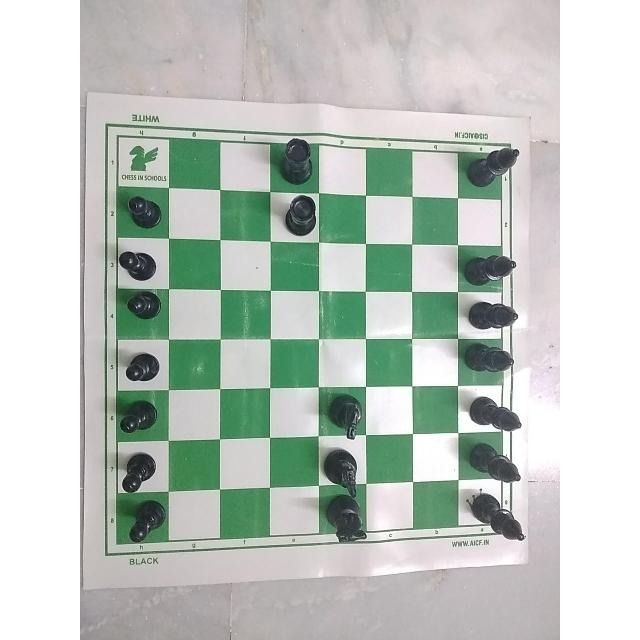black-bishop: (461, 486, 530, 546), (459, 290, 535, 341), (459, 139, 521, 199), (455, 239, 525, 286), (464, 389, 524, 436), (464, 441, 528, 484), (463, 341, 517, 375)
black-knight: (315, 441, 369, 498), (315, 504, 377, 552), (320, 386, 372, 441)
black-pawn: (112, 446, 164, 497), (124, 498, 170, 552), (110, 349, 164, 389), (114, 396, 162, 439), (119, 288, 169, 327), (122, 190, 164, 234), (116, 246, 160, 285)
black-rook: (277, 189, 325, 239), (280, 132, 320, 186)
